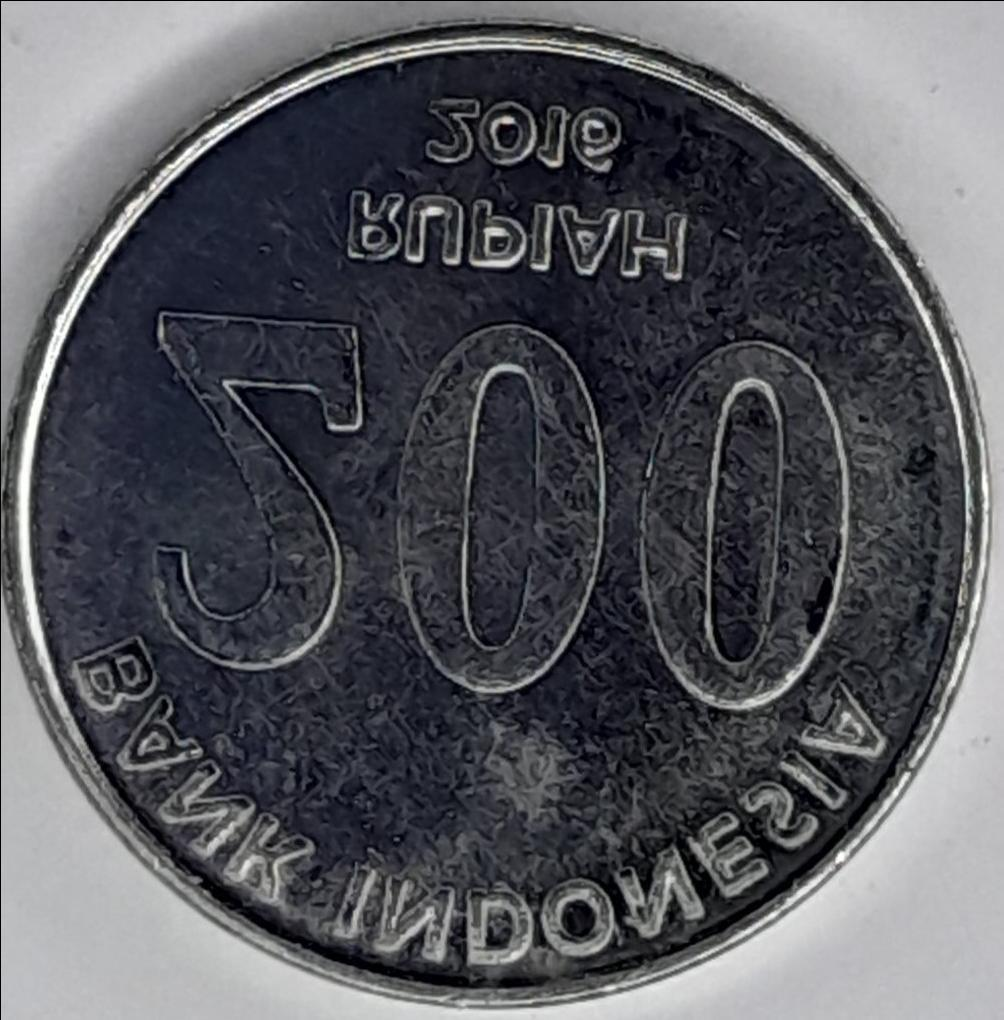coin_200_e2016: (0, 18, 1004, 1020)
